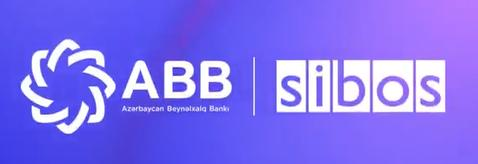ABB: (18, 38, 117, 136)
